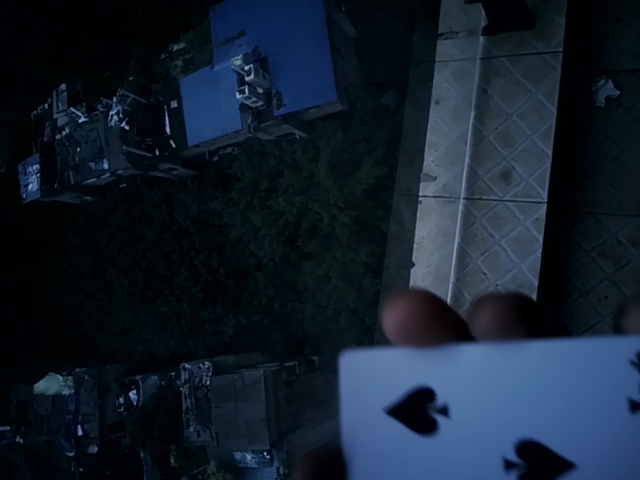ht 5: (331, 331, 640, 480)
